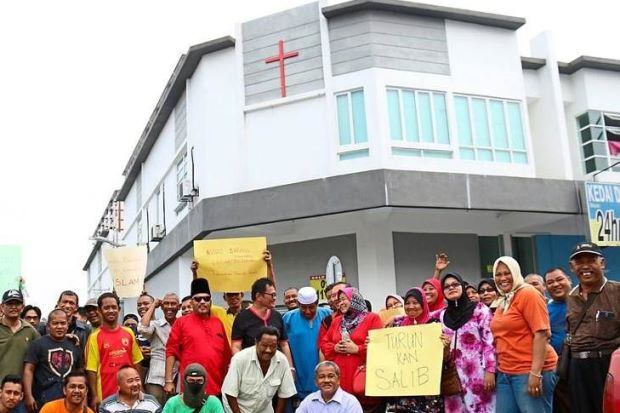Church: (255, 38, 298, 91)
